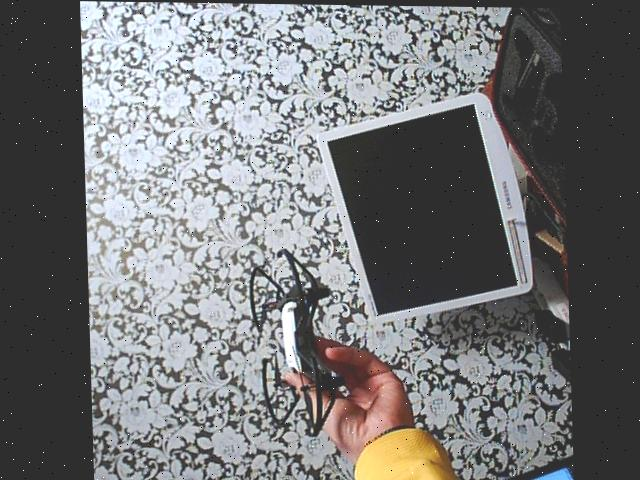drone: (234, 240, 352, 433)
